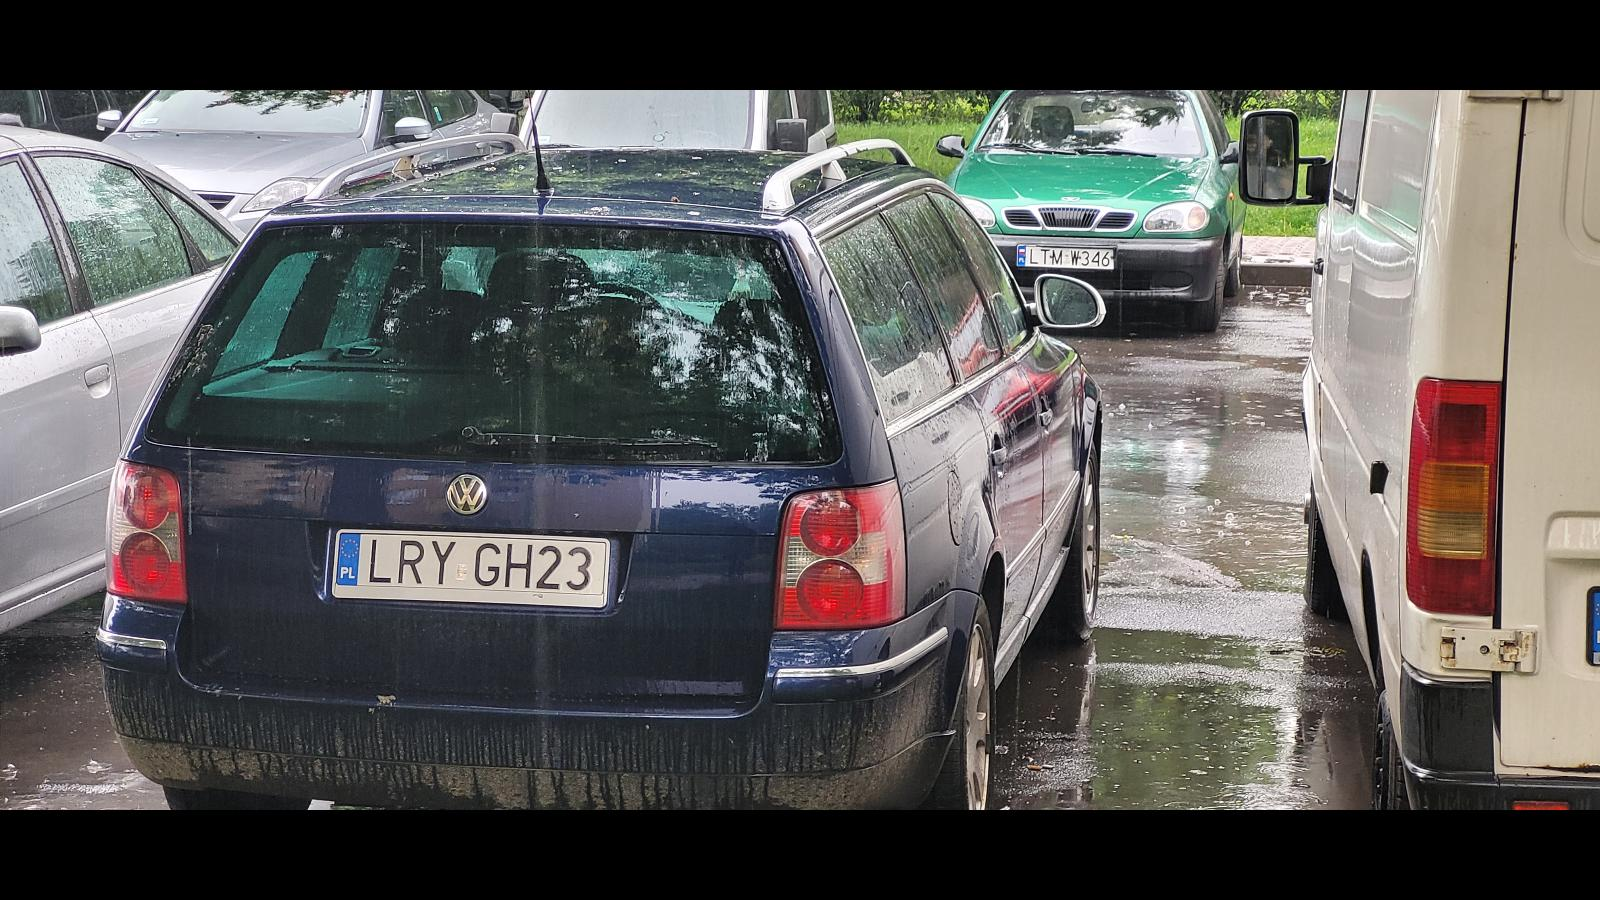plates: (332, 530, 610, 608), (1017, 245, 1115, 271)
